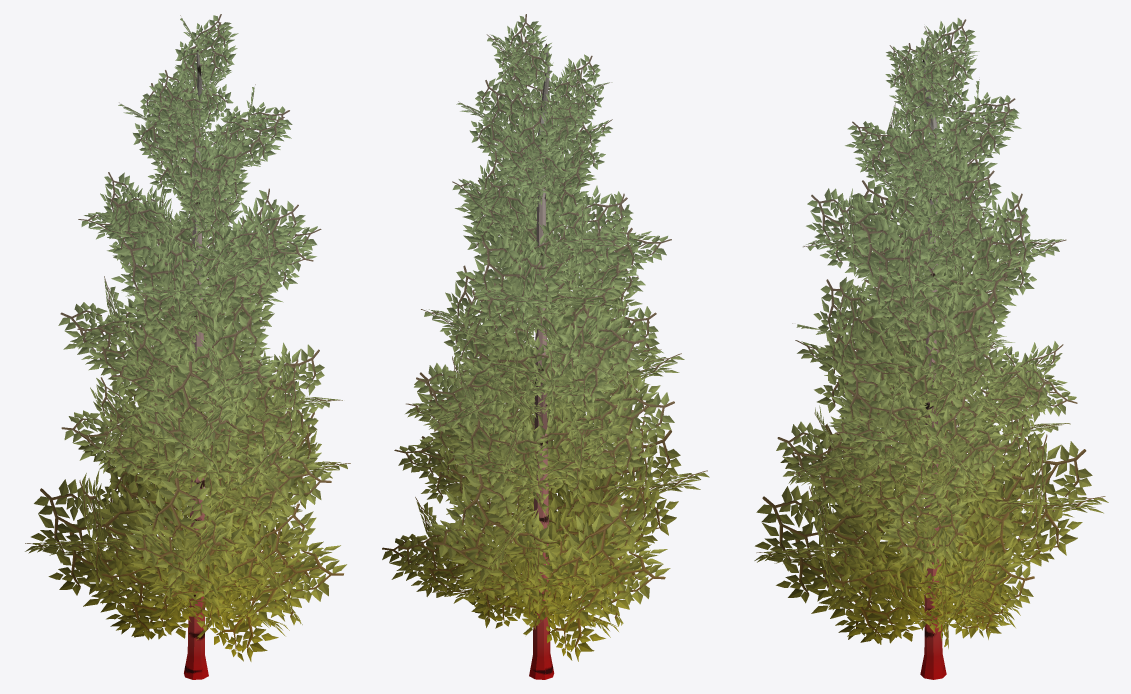
Rendered from synty-tree-birch-02.gltf.
The picture shows the model from 3 angles, left to right: view 1: azimuth 30°, elevation 25°; view 2: azimuth 150°, elevation 25°; view 3: azimuth 270°, elevation 25°; orthographic projection.
Visible parts, largest first — view 1: SM_Tree_Birch_02; view 2: SM_Tree_Birch_02; view 3: SM_Tree_Birch_02.
Boxes of the visible parts, <box> form: SM_Tree_Birch_02: <box>25,14,350,679</box>; SM_Tree_Birch_02: <box>382,14,709,679</box>; SM_Tree_Birch_02: <box>754,18,1108,679</box>.
Size of the model in its own units: 2.5 by 5.4 by 2.79.
2 materials, 2 textured.
